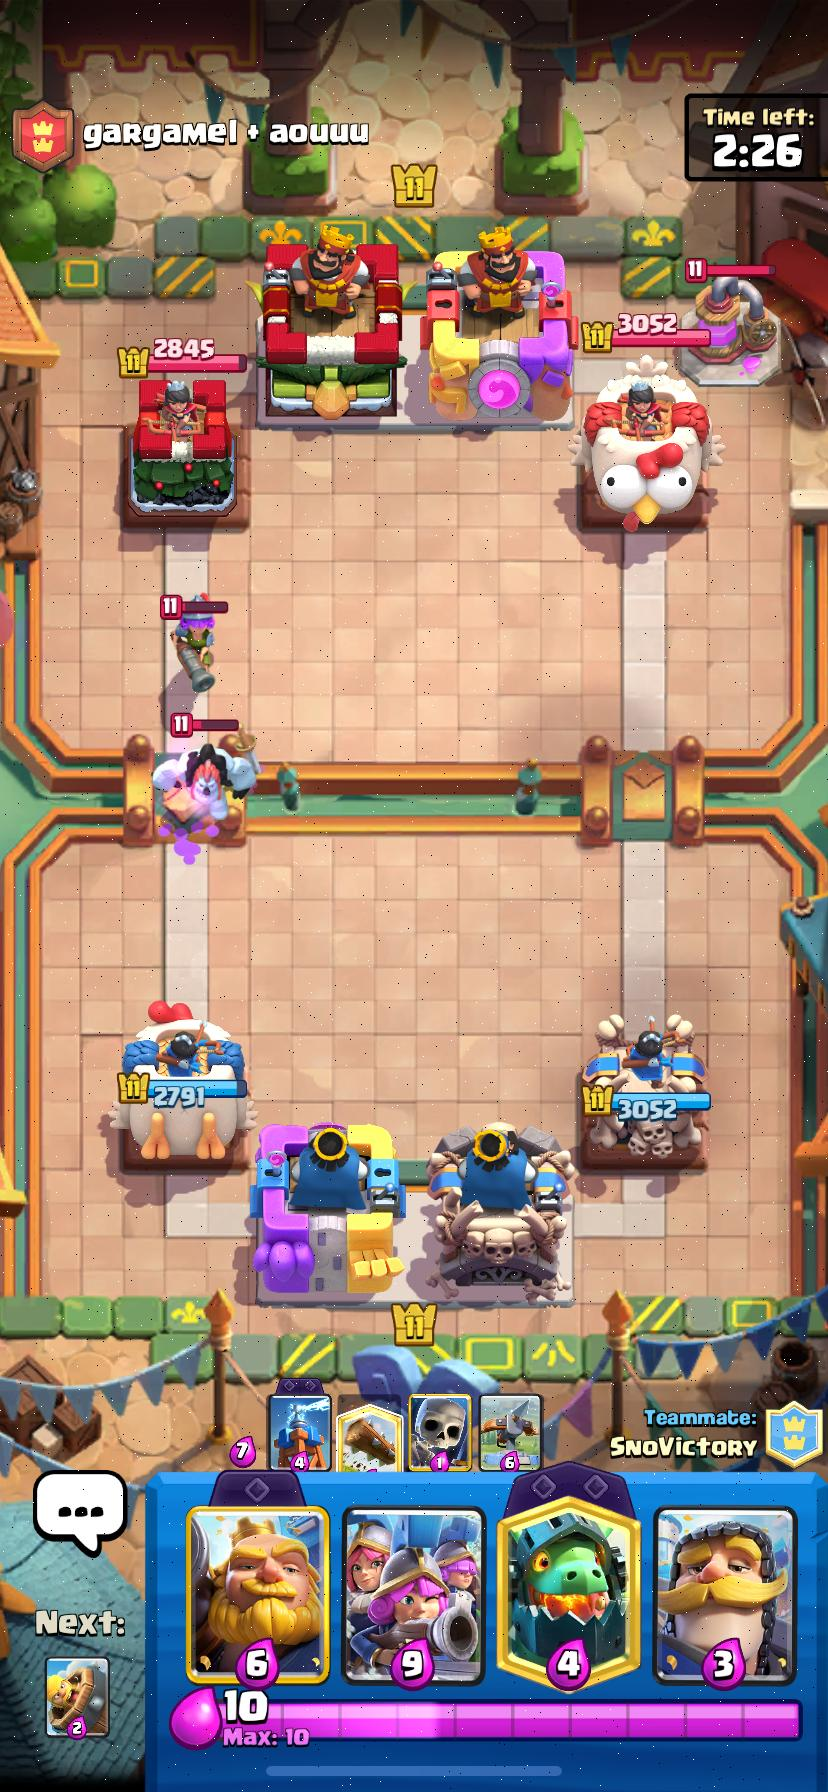EIceGolem: (154, 744, 258, 841)
EKingTower: (422, 227, 578, 419), (257, 226, 401, 418)
EMusk: (172, 598, 226, 693)
EPump: (678, 269, 780, 386)
EnemyPrincessTower: (578, 366, 720, 529), (124, 377, 236, 522)
OwnKingTower: (252, 1123, 403, 1301), (428, 1123, 574, 1305)
OwnPrincessTower: (109, 1017, 254, 1160), (581, 1014, 710, 1162)
